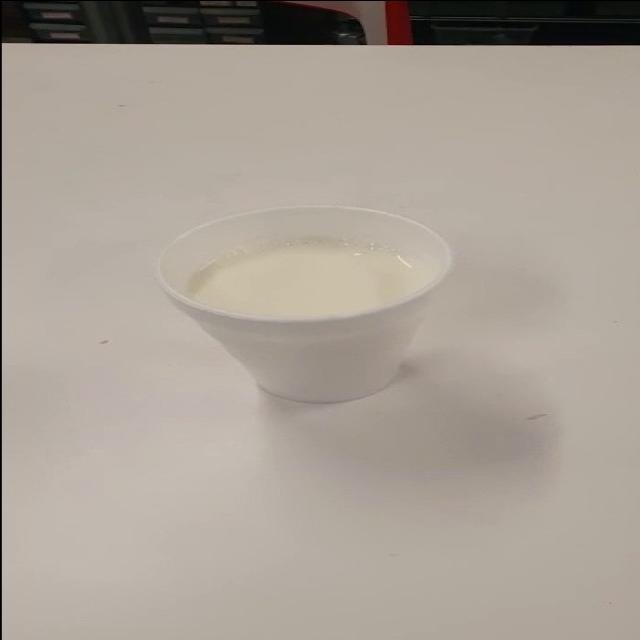Milk: (156, 195, 482, 415)
